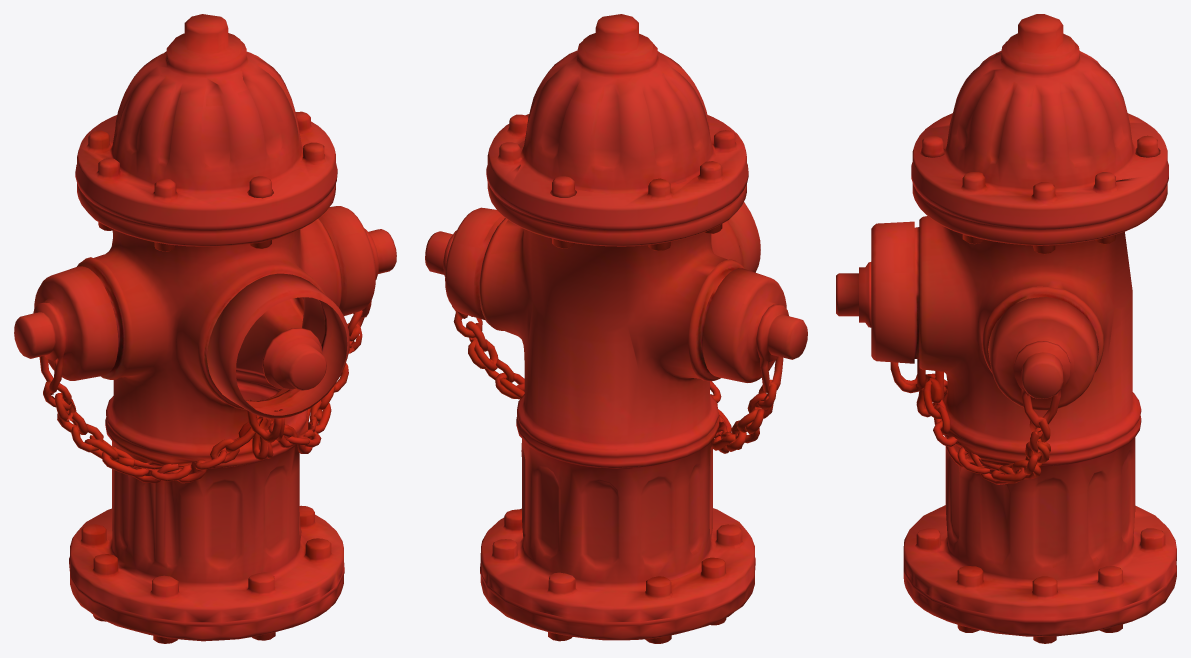
The model's file is fire_hydrant_ba0175c1_v4.glb.
3 renders of one model, left to right at view 1: azimuth 30°, elevation 25°; view 2: azimuth 150°, elevation 25°; view 3: azimuth 270°, elevation 25°, orthographic.
Visible parts, largest first — view 1: material; view 2: material; view 3: material.
Part boxes in pixels (x1,y1,x2,y2): material: [14, 14, 396, 643]; material: [425, 14, 807, 643]; material: [836, 14, 1176, 643].
Size of the model in its own units: 1.26 by 1.9 by 1.03.
1 material, 1 textured.
